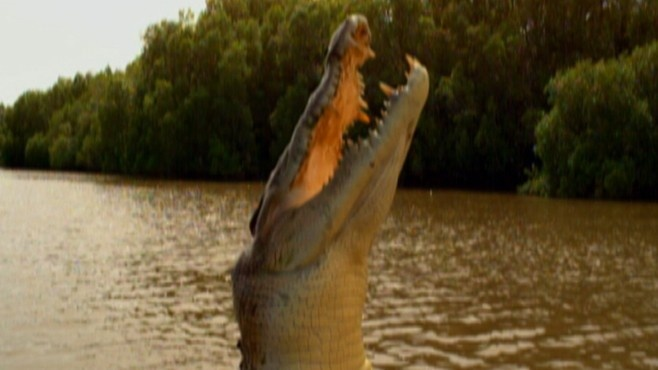crocodile: (222, 10, 431, 370)
